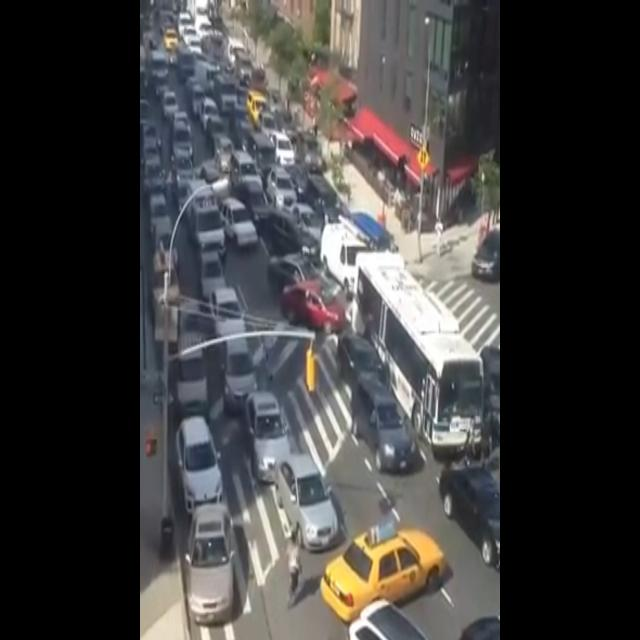Ambulance: (181, 169, 232, 256)
